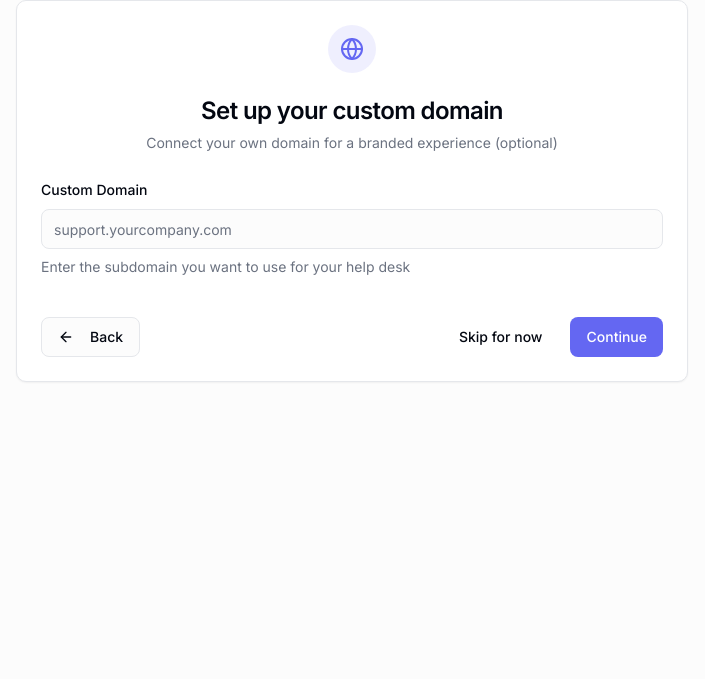
Test case: DomainVerificationStep › verification methods › shows file verification instructions when file tab is selected
This screenshot has width=705, height=679.
Type "support.test.com" into the field with placeholder "support.yourcompany.com". click: [352, 229]
box: [41,209,663,249]
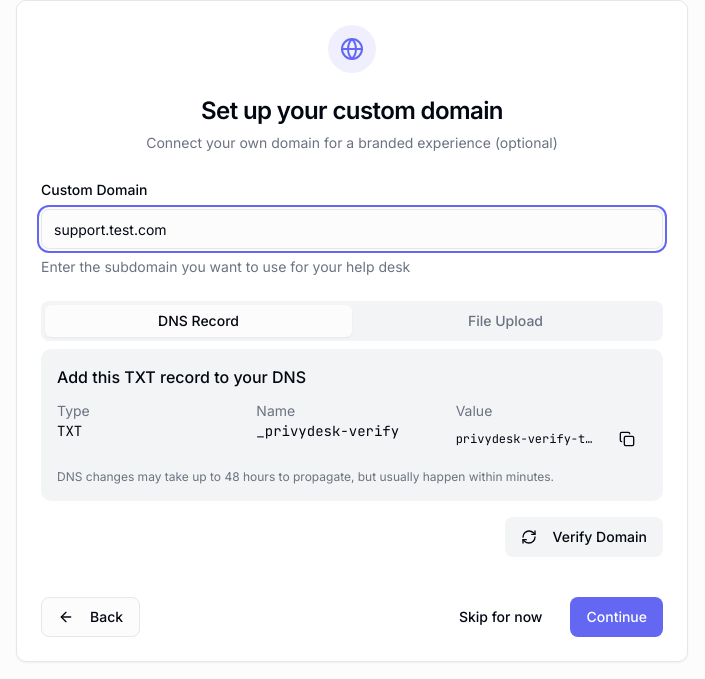
Click the tab "File Upload". click: [506, 321]
box: [352,305,659,337]
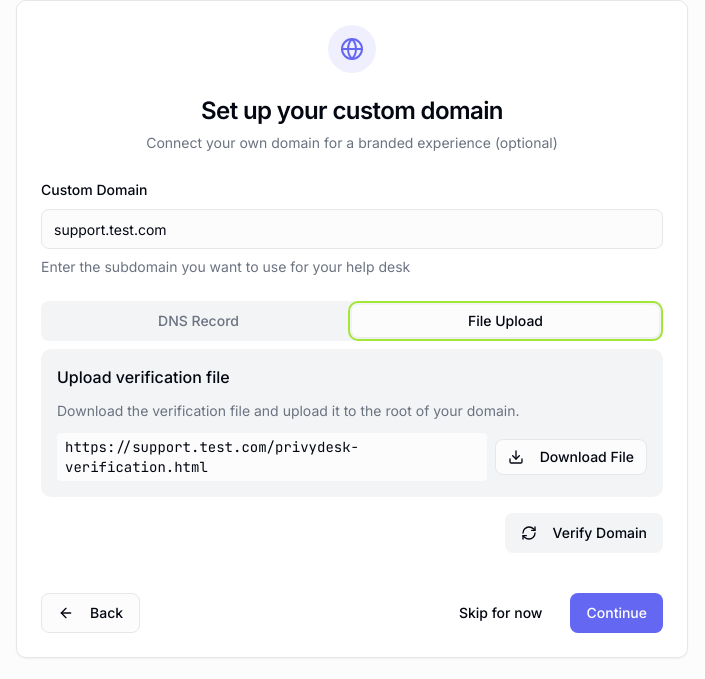
Now the heading "Upload verification file" is shown, box [57,367,230,387]
Now the button "Download File" is shown, box [495,439,647,475]
